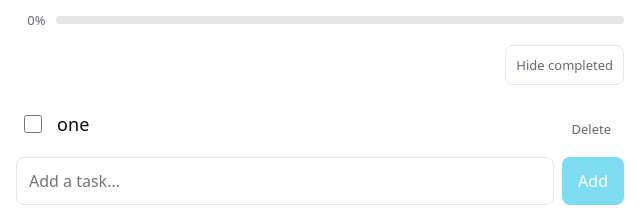
Test: TodoPage › deletes a todo
Step 1. Click the button with test id "todo-delete" → (591, 129), box [562,111,620,147]
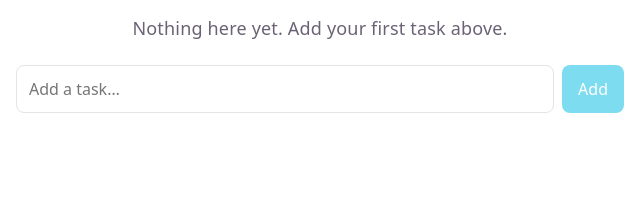
Expected: the text "one" is gone
